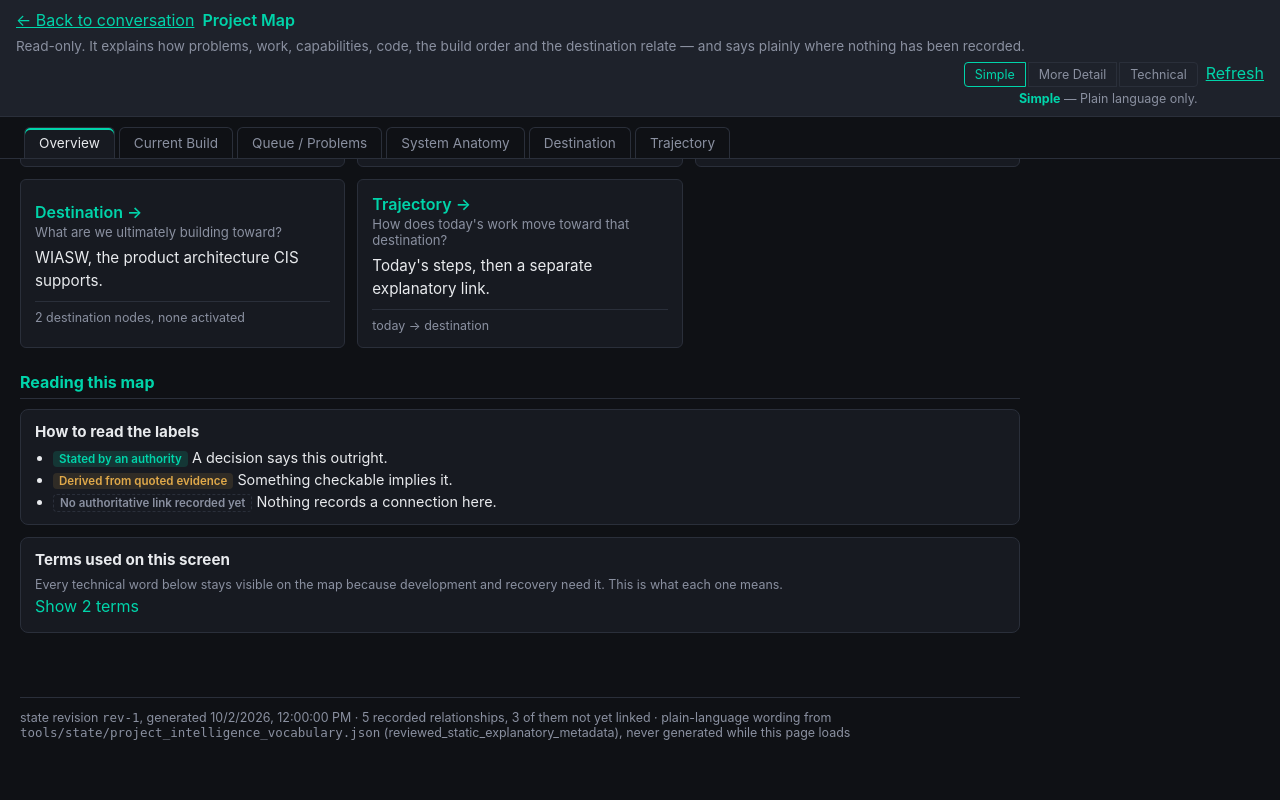
Scenario: ProjectMap — Overview › explains every technical term it uses, from the reviewed vocabulary
(page scrolled)
Click the button "Show 2 terms" at [87, 606], box [35,592,139,620]
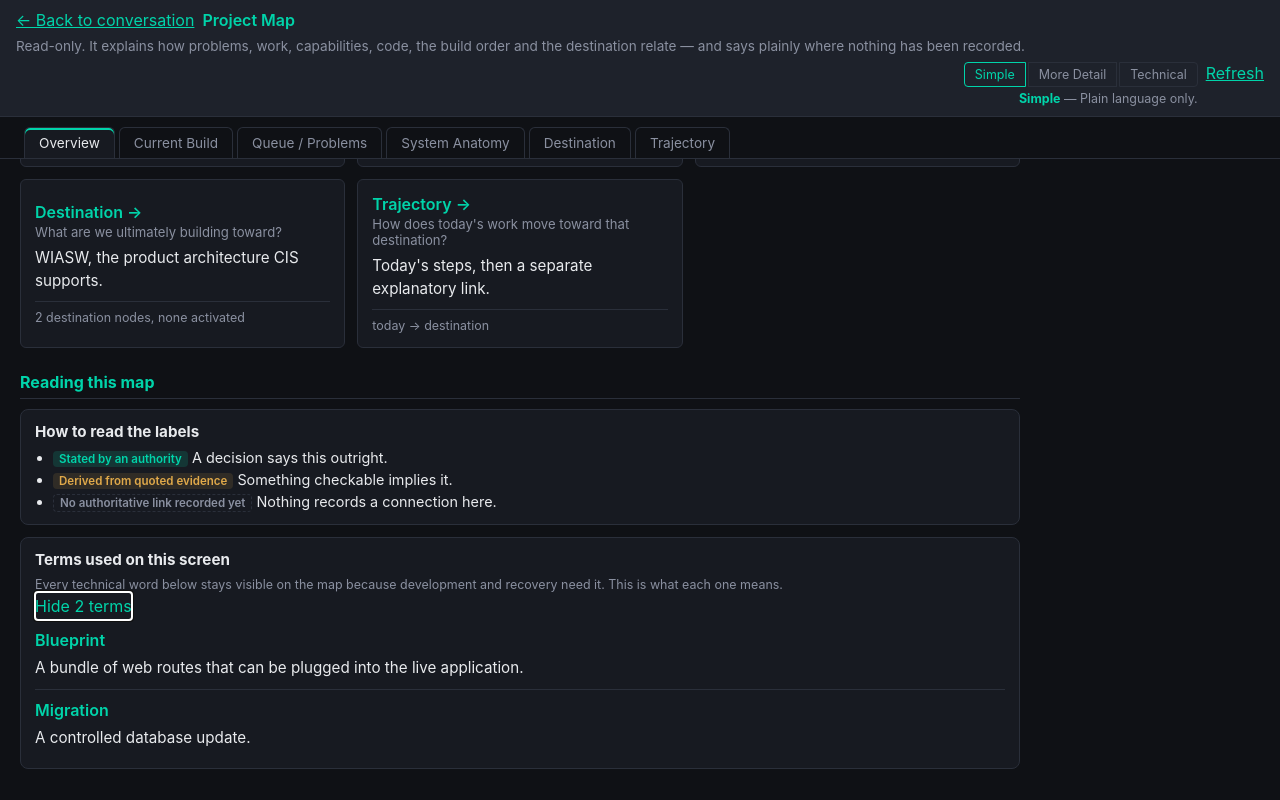
Expected: the text "Blueprint" is shown, [35,630,105,650]
Expected: the text "A bundle of web routes that can be plugged into the live application." is shown, [35,658,524,677]
Expected: the text "A controlled database update." is shown, [35,728,250,747]
Click the button "More Detail" at [1072, 74], box [1028,62,1117,87]
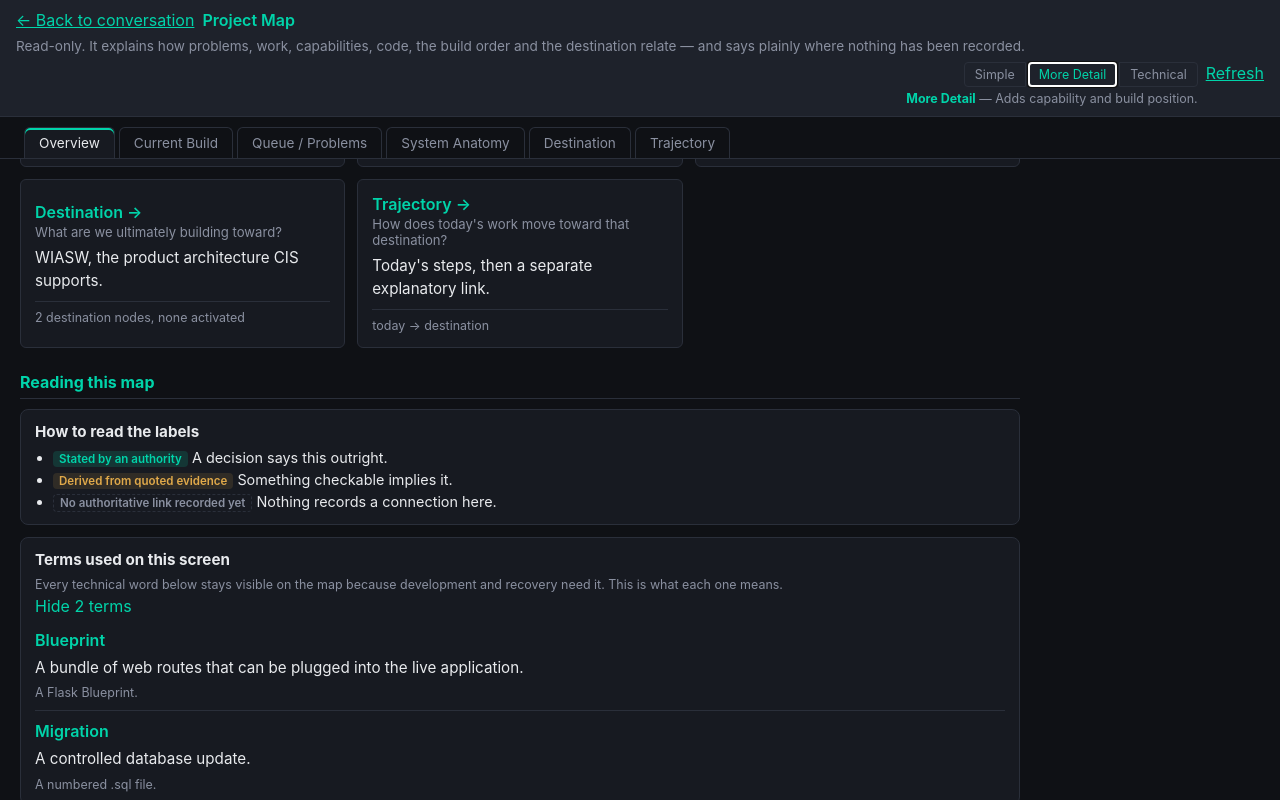
Expected: the text "A Flask Blueprint." is shown, [35,685,138,700]
